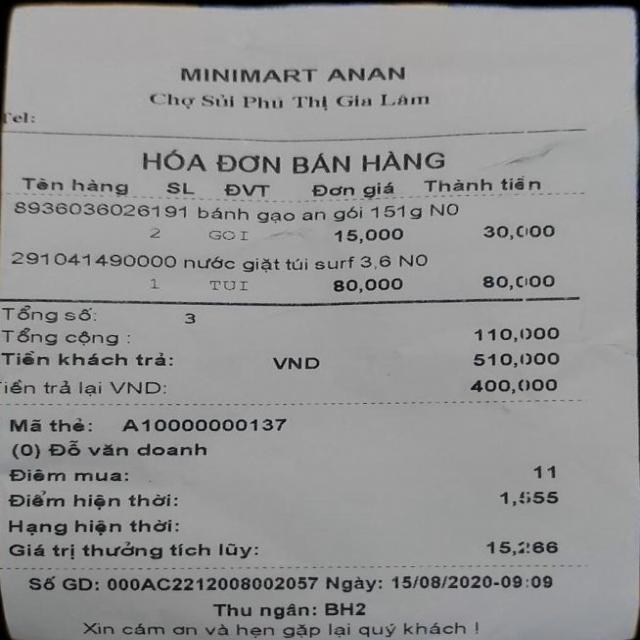Date: (383, 569, 497, 597)
Store_Name: (129, 52, 438, 95)
Total_Amount: (0, 318, 575, 349)
